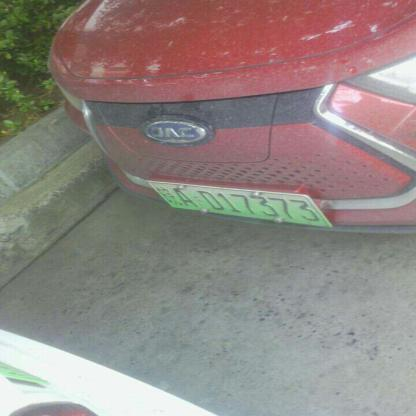lp: (147, 180, 332, 227)
